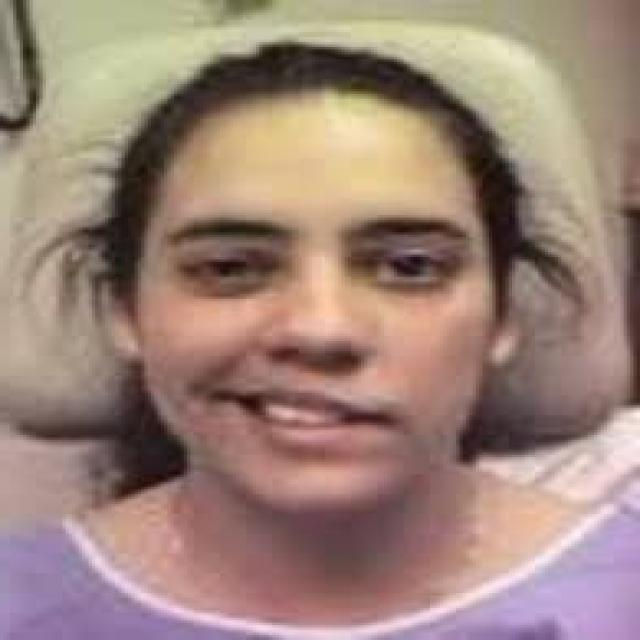stroke_face: (83, 46, 524, 542)
